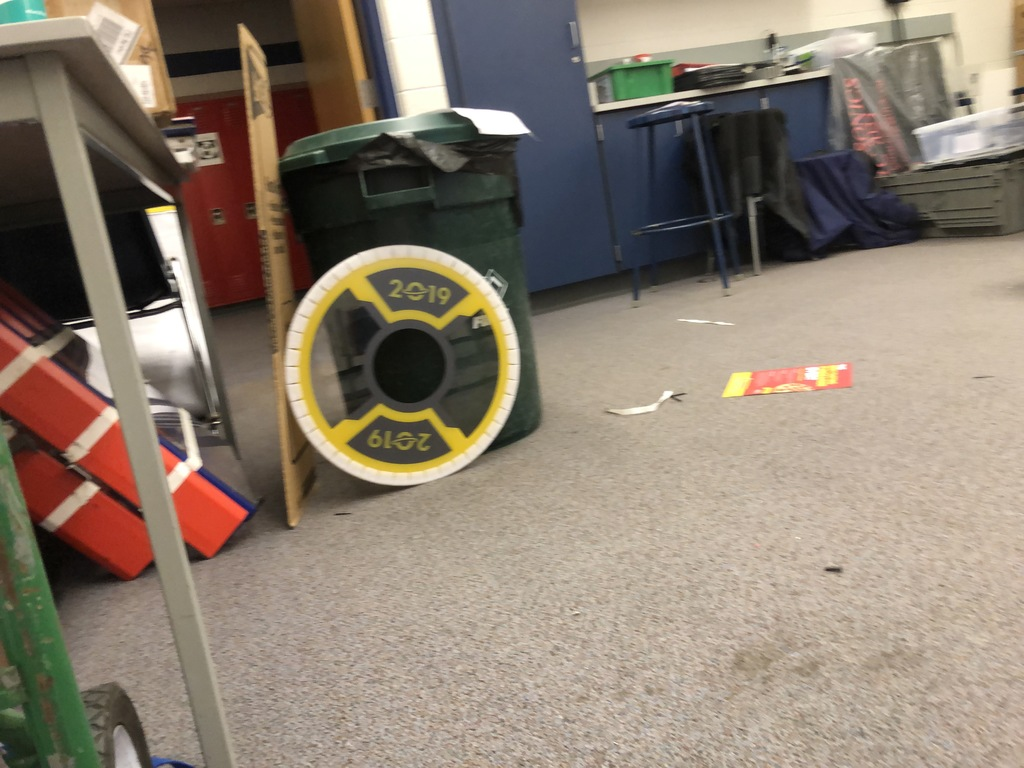hatch_panel: (256, 236, 528, 505)
